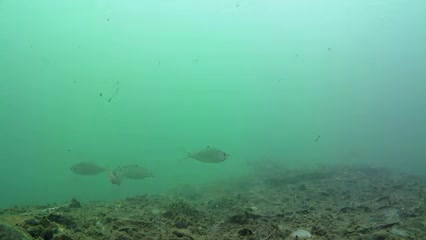azi: (188, 141, 231, 165)
